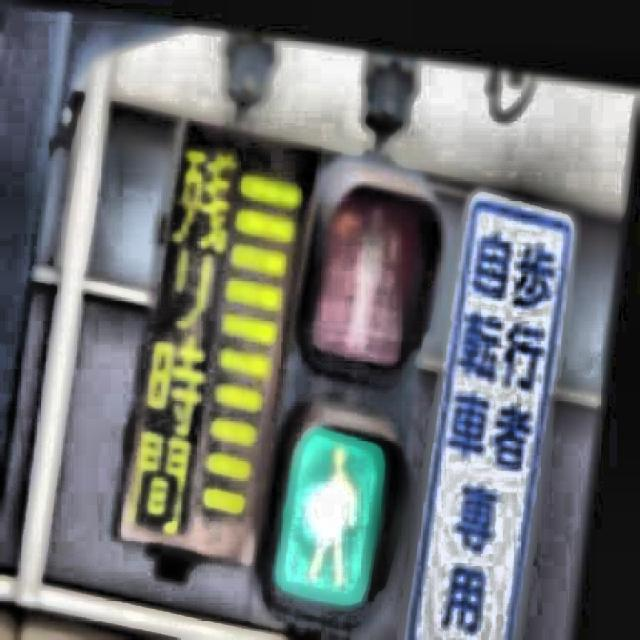semaforo pedestre: (148, 115, 546, 640)
